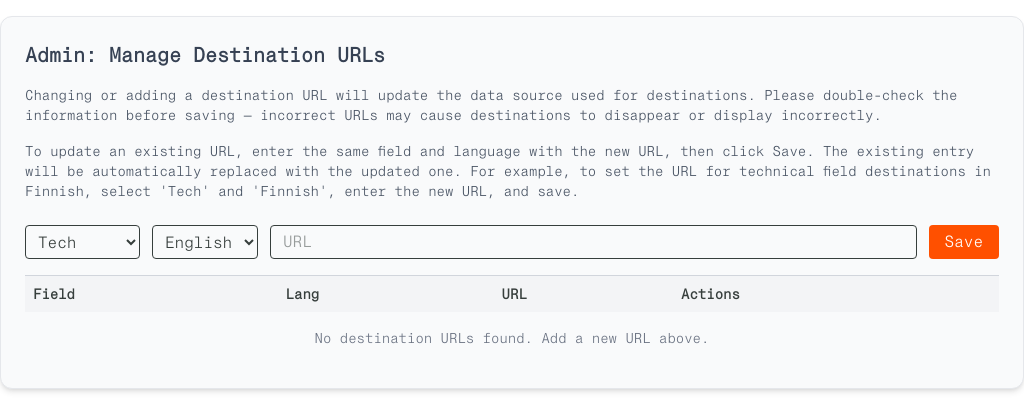
Test: DestinationAdminPanel › allows adding a new URL
Type "https://new.com" into the field with placeholder "URL" at (593, 242), box [270,225,917,259]
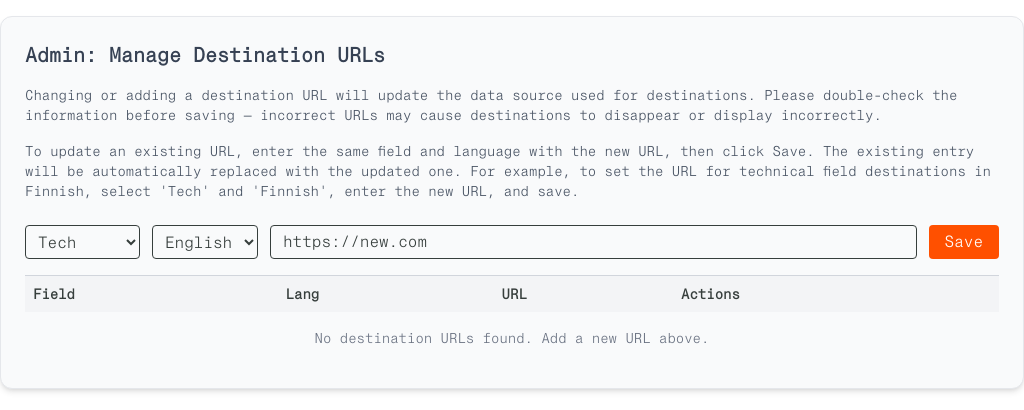
Click the button "Save" at (964, 242), box [929,225,999,259]
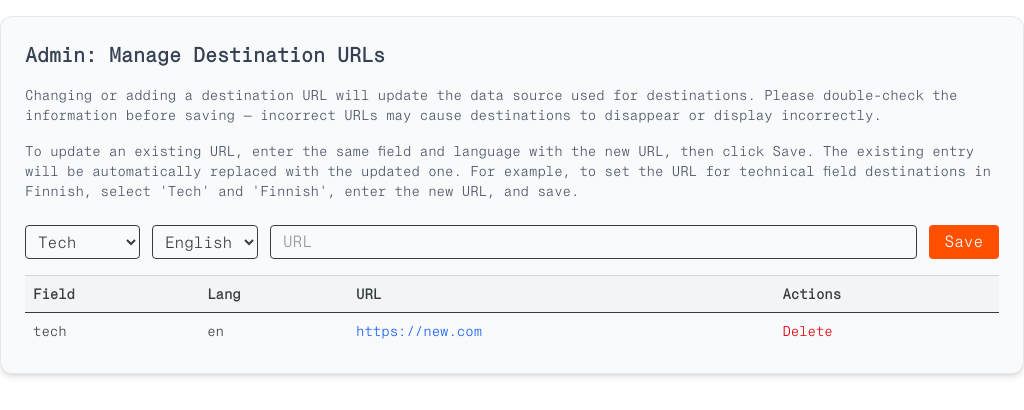
Expected: the link "https://new.com" is shown, [356,323,482,339]
